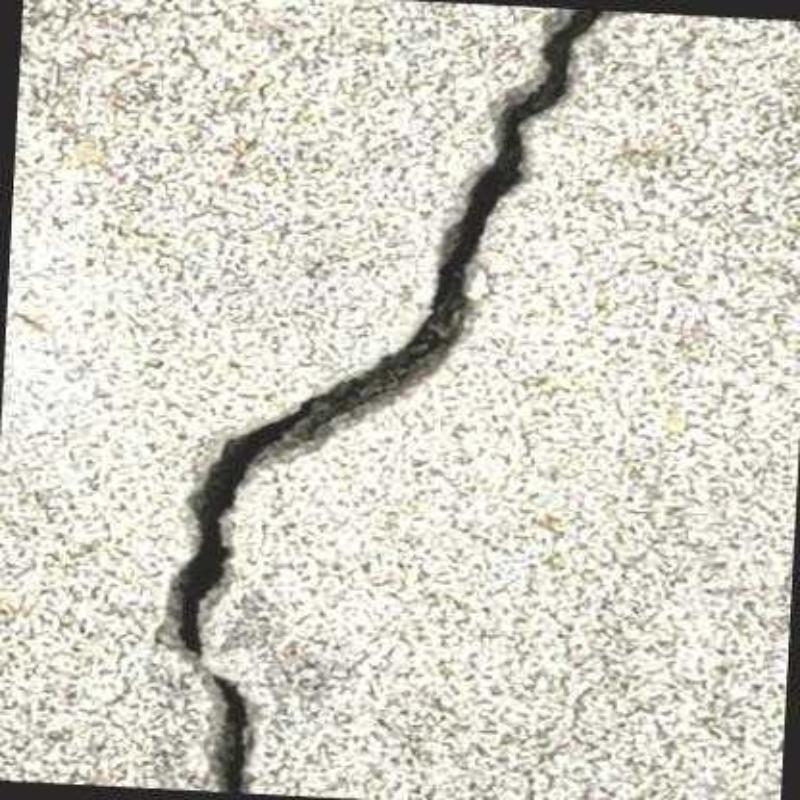pothole: (173, 9, 601, 792)
